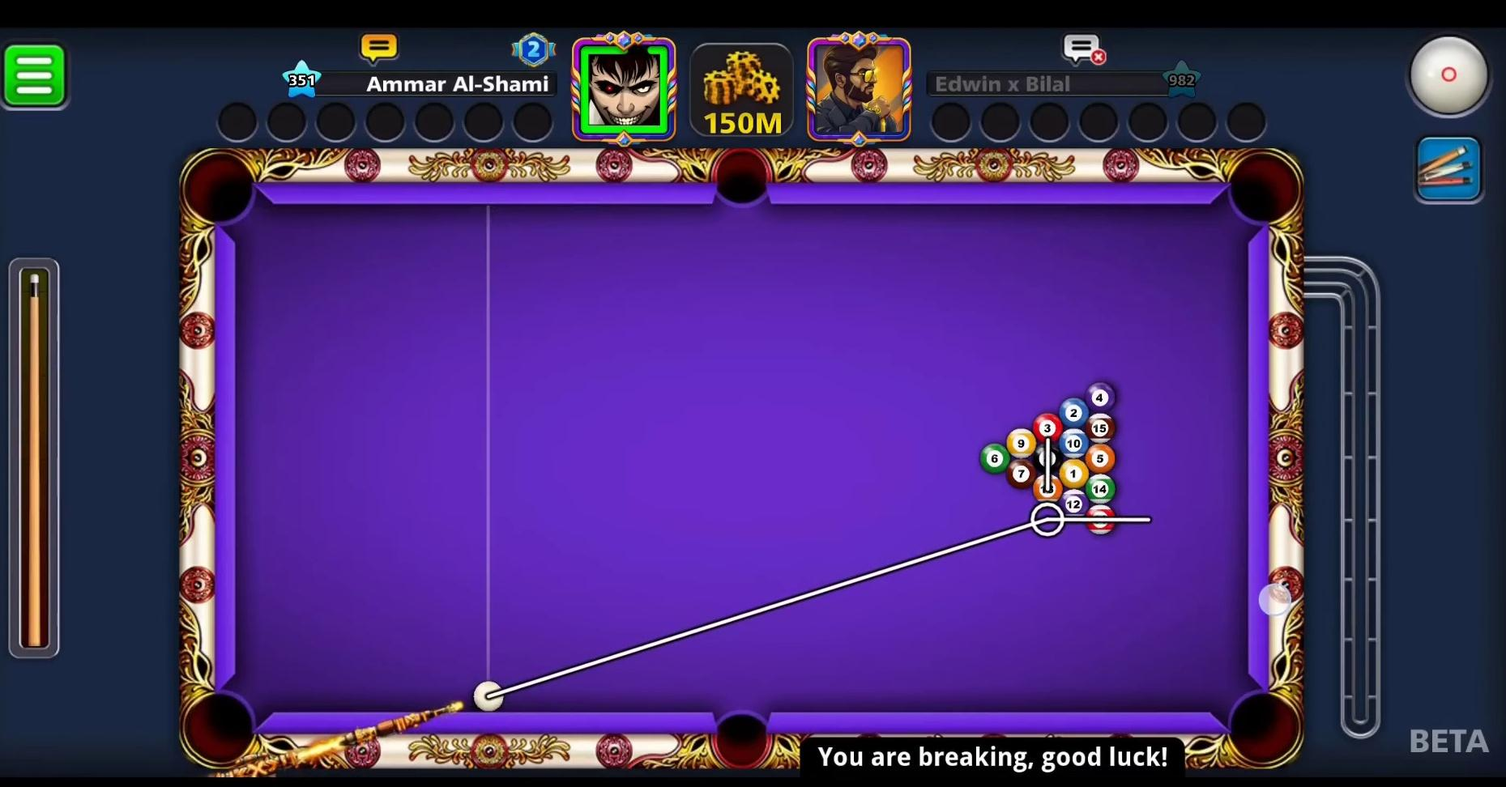Ball: (1084, 379, 1119, 414), (1084, 502, 1118, 536), (1030, 410, 1064, 444), (1058, 456, 1089, 492), (1056, 428, 1089, 460), (1085, 441, 1117, 474), (1004, 458, 1038, 489), (1085, 411, 1117, 443), (1058, 394, 1089, 427), (1032, 441, 1062, 475), (1085, 472, 1116, 504), (1032, 472, 1063, 504), (1059, 488, 1087, 523), (1005, 426, 1036, 457), (979, 442, 1009, 473)
Force: (1, 258, 65, 658)
Guideline: (487, 435, 1154, 703)
Hole: (173, 676, 270, 776), (1215, 678, 1308, 776), (1216, 142, 1308, 235), (174, 143, 267, 232), (695, 687, 787, 772), (701, 141, 780, 219)
Play_Area: (233, 204, 1244, 713)
Spin: (1401, 28, 1504, 128)
White: (465, 679, 511, 715)
